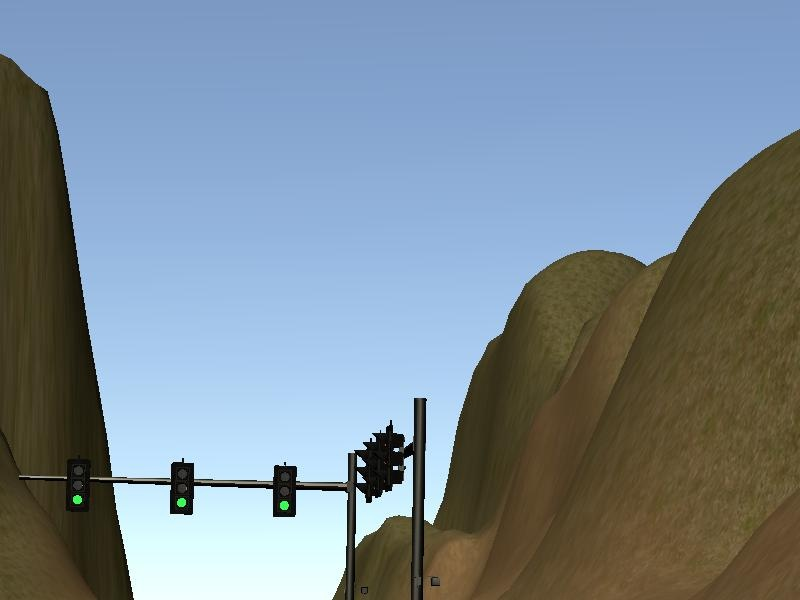GREEN: (66, 458, 91, 511), (169, 462, 194, 515), (272, 464, 297, 517)
